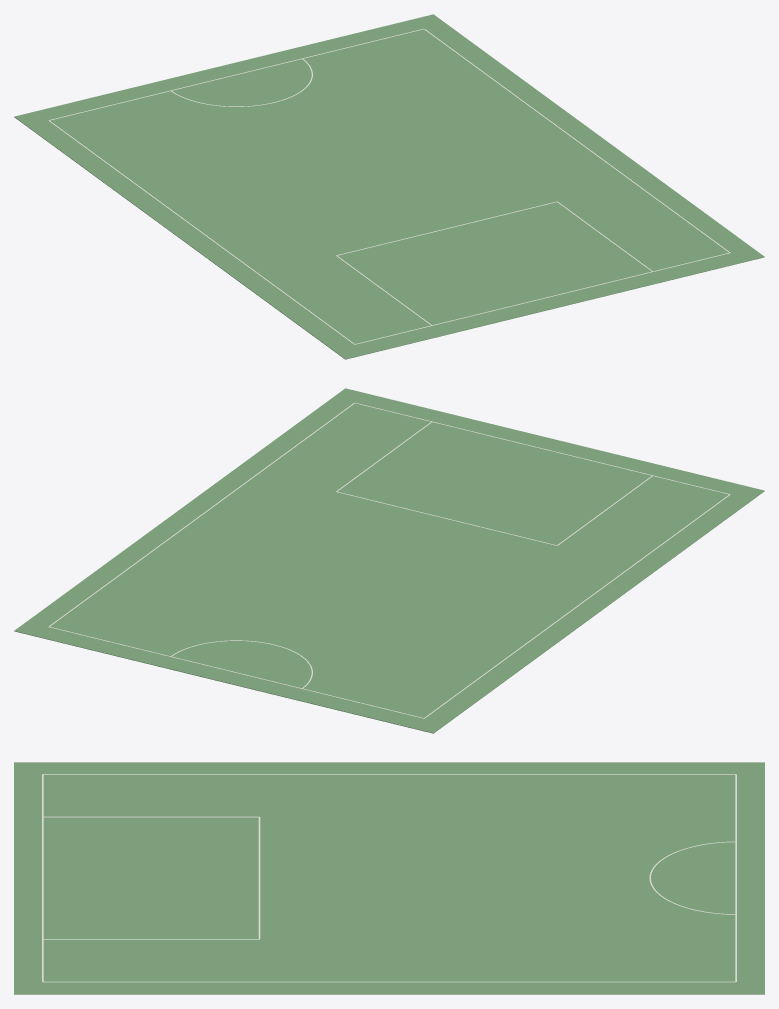
Rendered from training-half-pitch-4c535305.glb.
The picture shows the model from 3 angles, top to bottom: view 1: azimuth 30°, elevation 25°; view 2: azimuth 150°, elevation 25°; view 3: azimuth 270°, elevation 25°; orthographic projection. The views are drawn at different scales.
Parts seen in each view (by area): view 1: training-half-pitch; view 2: training-half-pitch; view 3: training-half-pitch.
Part boxes in pixels (x1,y1,x2,y2): training-half-pitch: [14, 14, 764, 359]; training-half-pitch: [14, 388, 764, 733]; training-half-pitch: [14, 762, 764, 994].
Bounding box in the file's own units: 38 × 0.0445 × 52.
